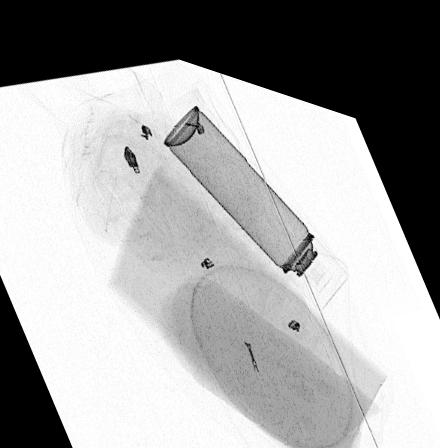Sprayer: (161, 91, 348, 290)
